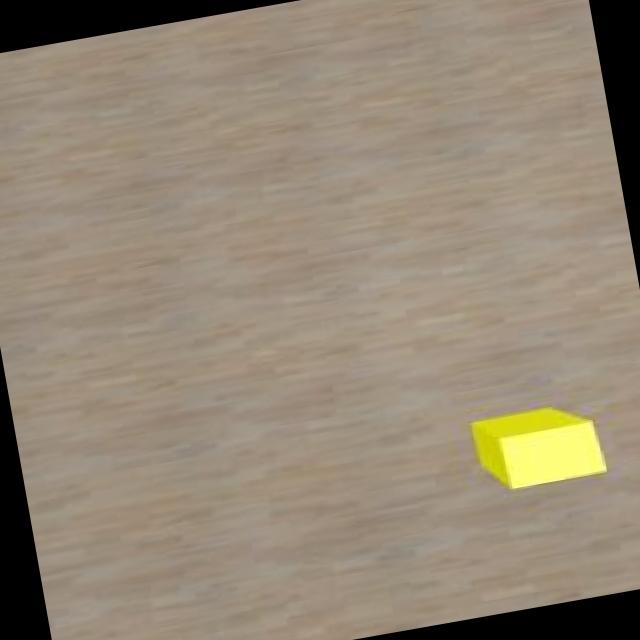cube-cAb5: (472, 397, 610, 492)
